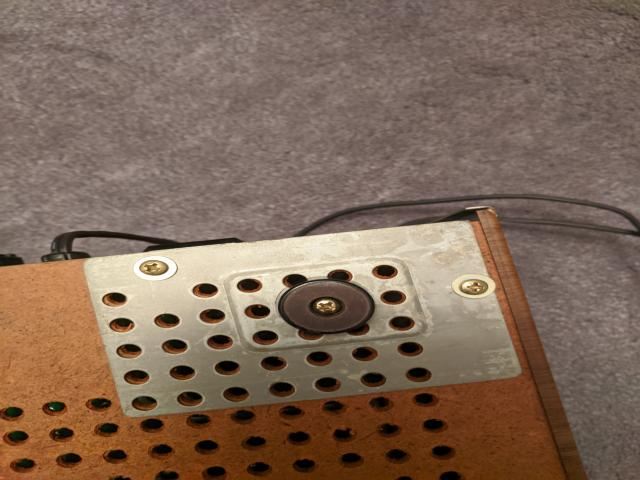CRS: (313, 298, 345, 316), (137, 260, 169, 276), (460, 279, 488, 295)
